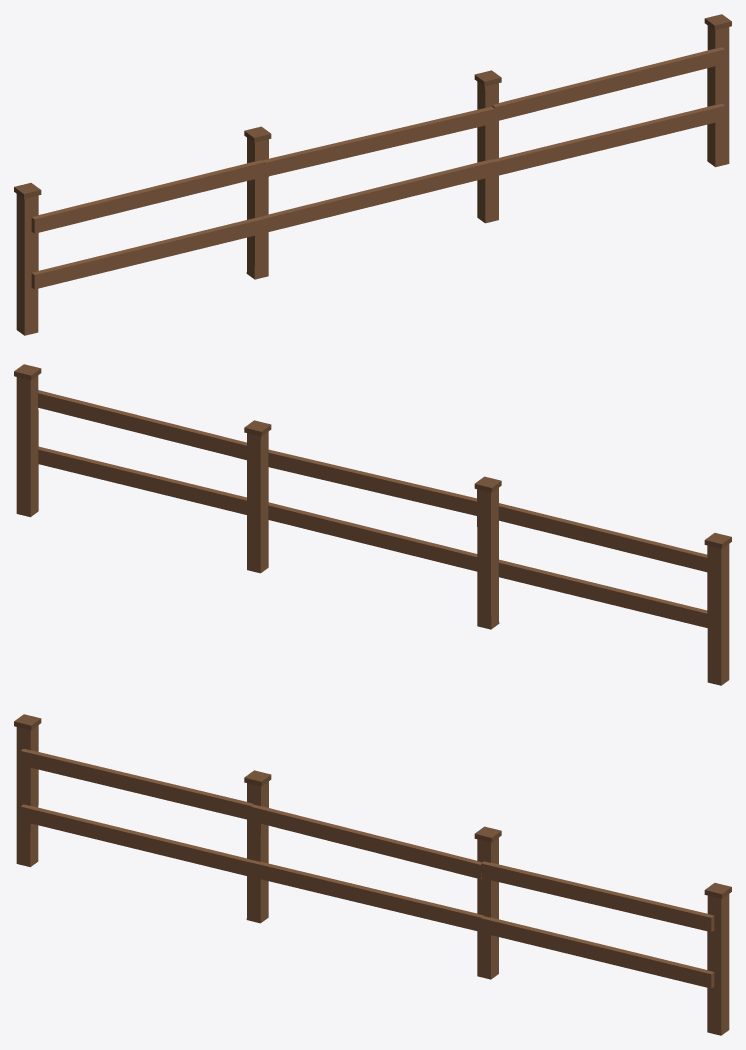
File: valla.glb
The picture shows the model from 3 angles, top to bottom: view 1: azimuth 30°, elevation 25°; view 2: azimuth 150°, elevation 25°; view 3: azimuth 330°, elevation 25°; orthographic projection.
Parts seen in each view (by area): view 1: Valla_Malla; view 2: Valla_Malla; view 3: Valla_Malla.
Boxes of the visible parts, x1,y1,x2,y2 form: Valla_Malla: (14,14,731,335); Valla_Malla: (14,364,731,685); Valla_Malla: (14,714,731,1035).
Size of the model in its own units: 6.15 by 1.19 by 0.18.
